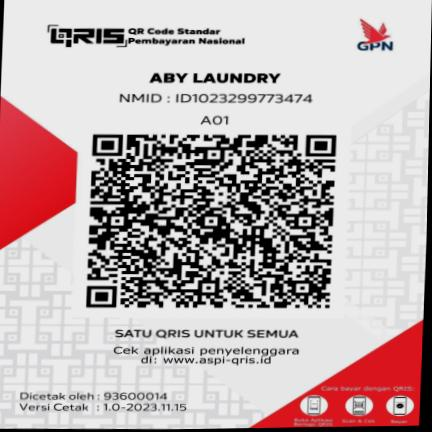Qris-Positioning: (0, 0, 432, 429)
